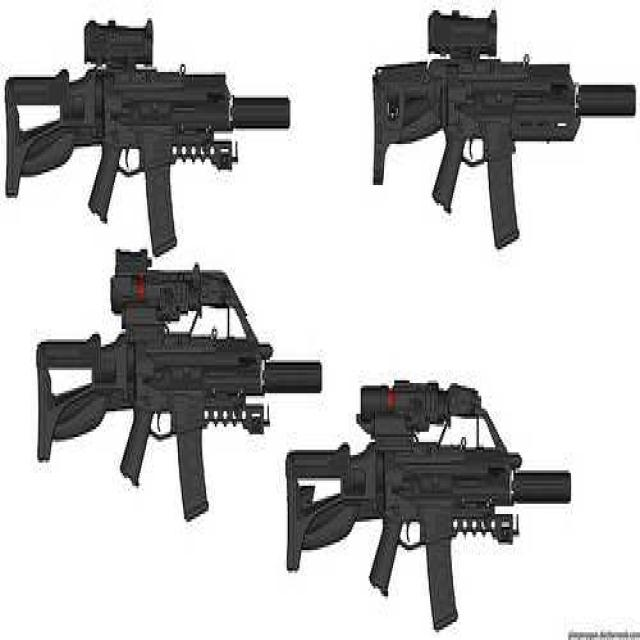RifleTel: (5, 7, 294, 243)
